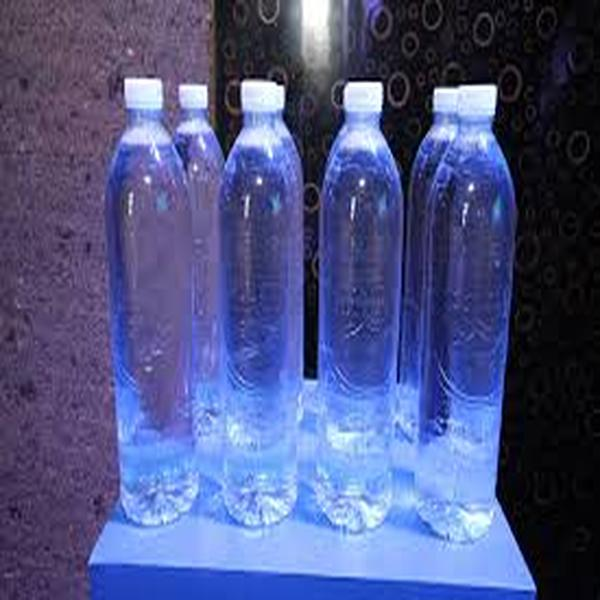tutuma: (97, 67, 203, 534), (313, 69, 403, 539), (421, 78, 510, 547), (217, 67, 305, 530)
